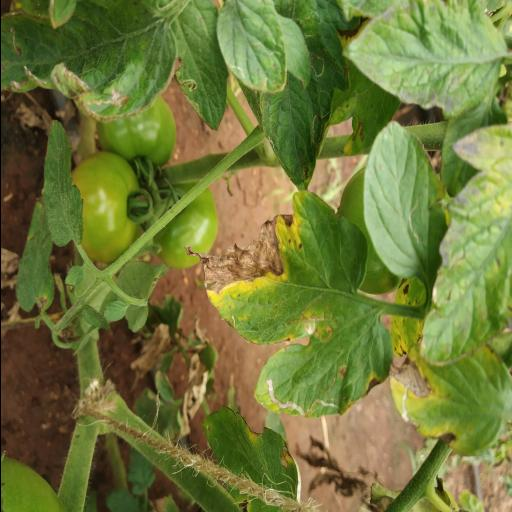disease_tomato: (193, 190, 393, 342), (387, 338, 512, 465)
